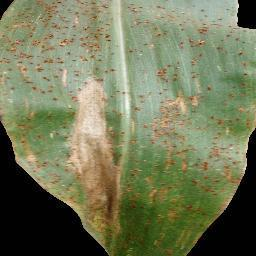Corn_Common_Rust: (124, 0, 253, 185), (0, 0, 114, 118), (77, 187, 214, 256), (1, 118, 125, 187), (42, 186, 77, 212), (214, 184, 237, 215)
